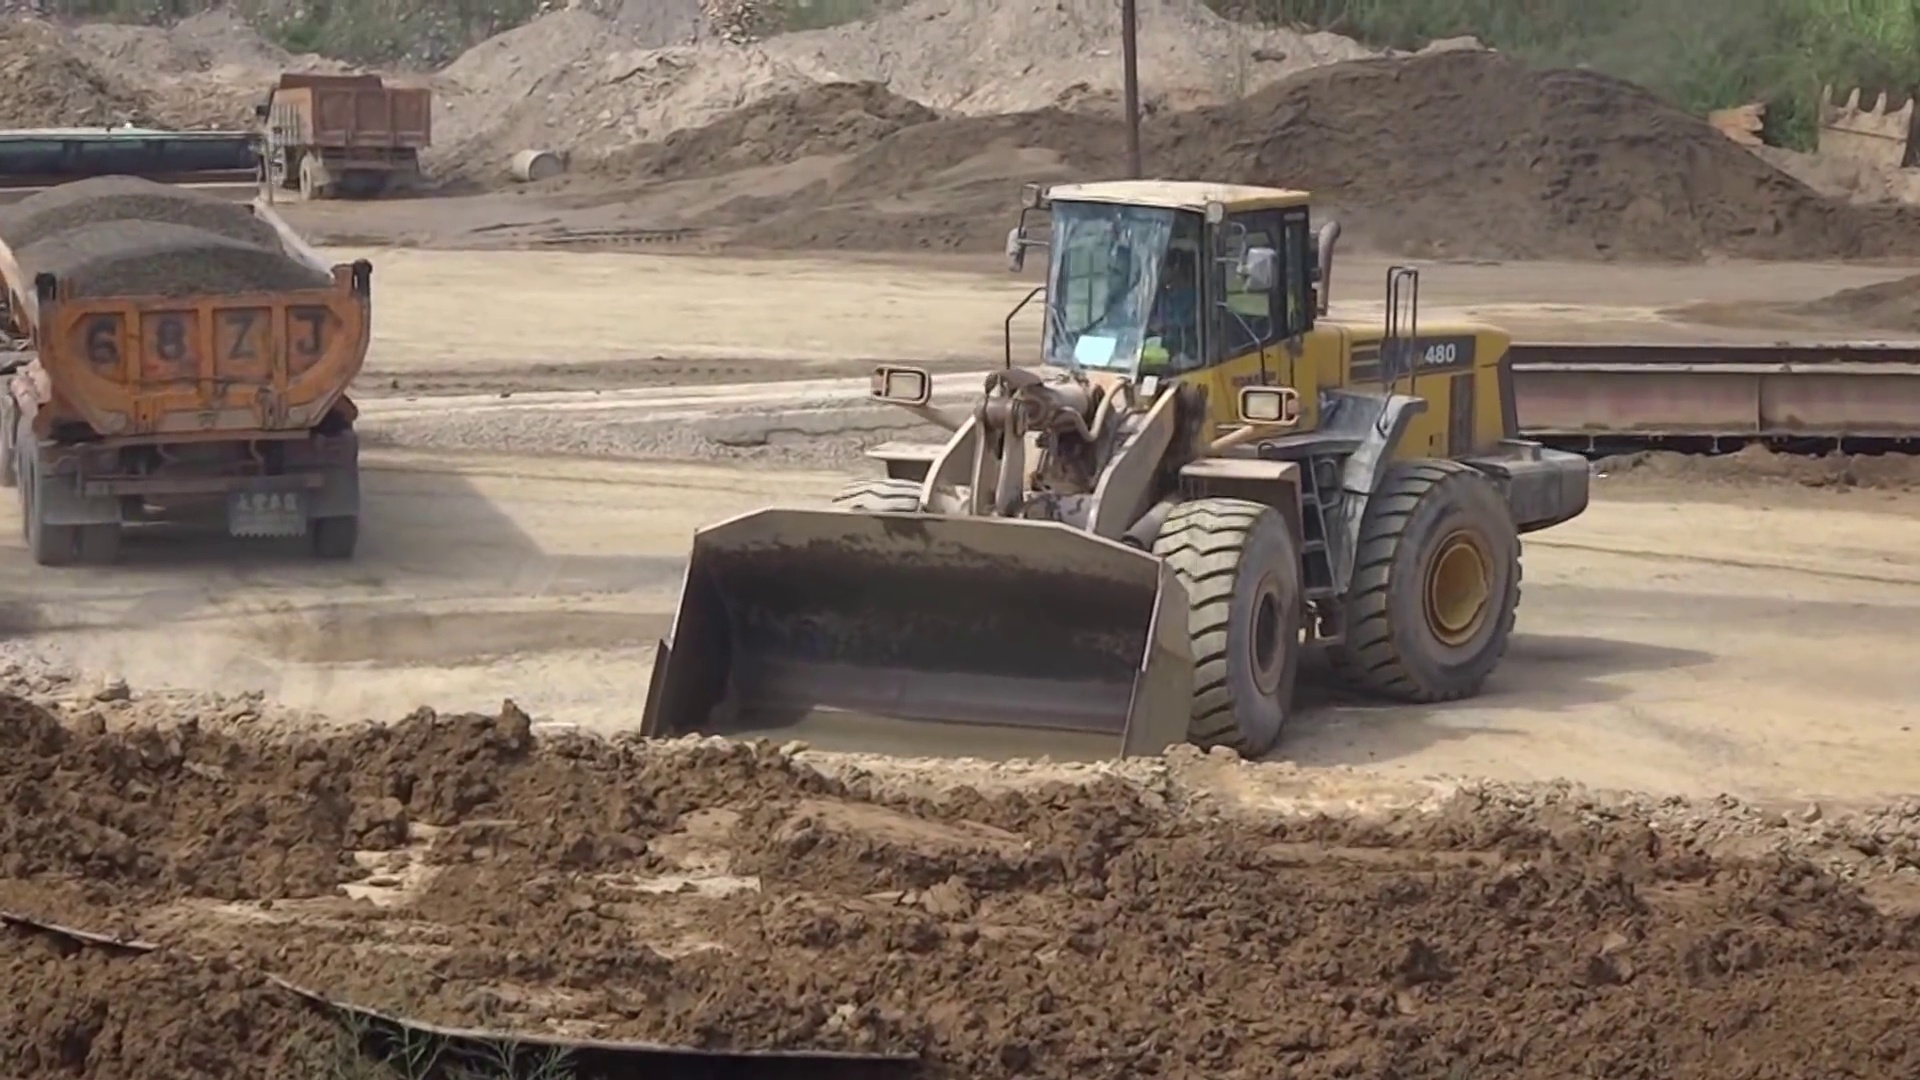truck: (11, 113, 371, 545), (256, 73, 426, 191)
wheel loader: (651, 169, 1580, 795)
